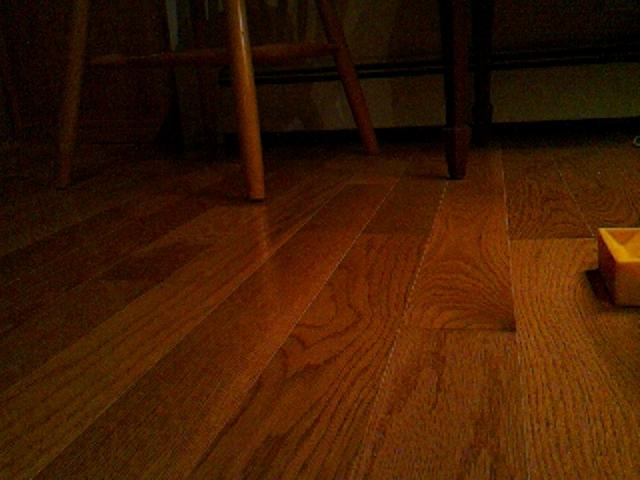red: (595, 225, 640, 309)
